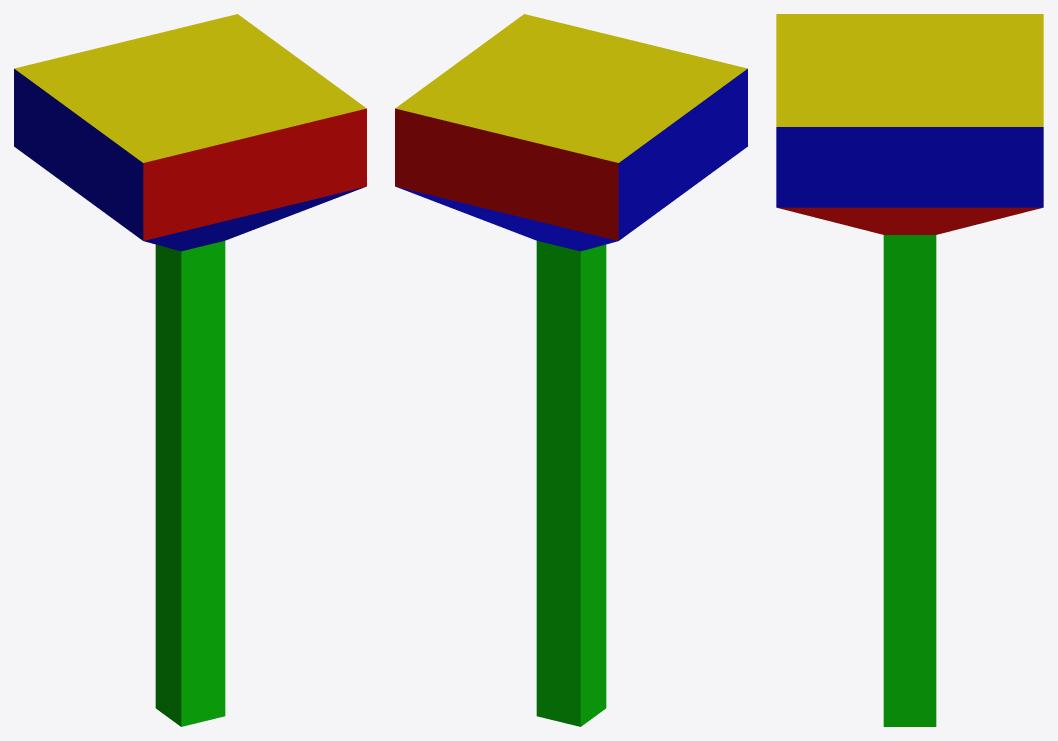
File: begin platform 2.fbx
3 renders of one model, left to right at view 1: azimuth 30°, elevation 25°; view 2: azimuth 150°, elevation 25°; view 3: azimuth 270°, elevation 25°, orthographic. The views are drawn at different scales.
Parts seen in each view (by area): view 1: Cube; view 2: Cube; view 3: Cube.
Boxes of the visible parts, x1,y1,x2,y2 form: Cube: [14, 14, 366, 726]; Cube: [395, 14, 747, 726]; Cube: [776, 14, 1043, 726].
Size of the model in its own units: 5 by 13.34 by 5.
